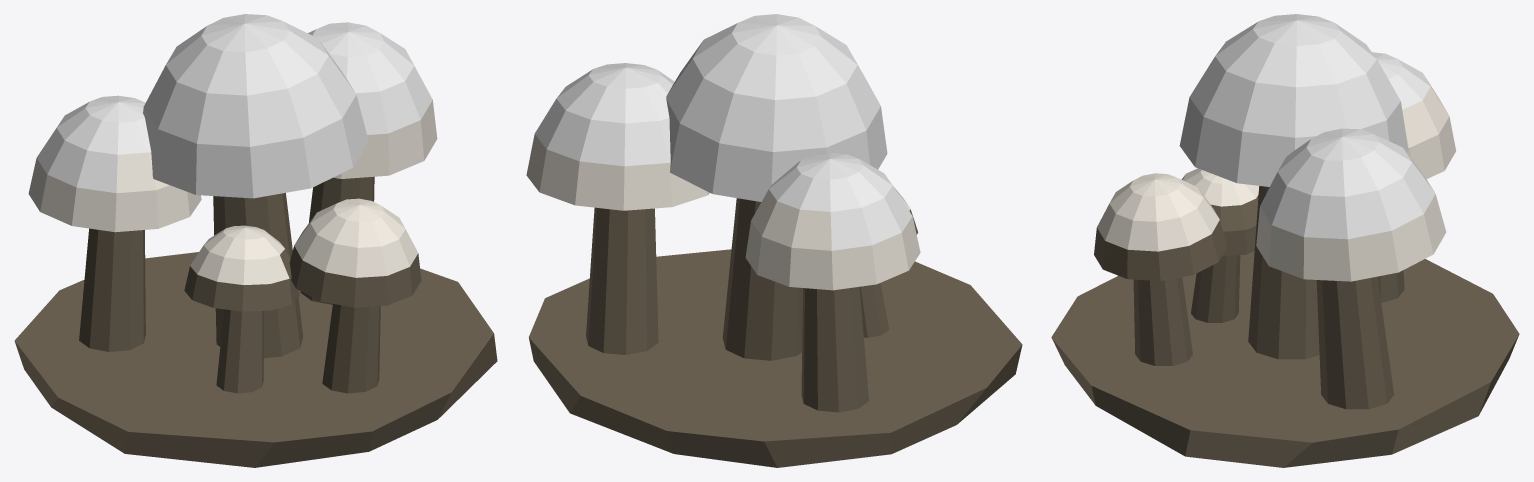
The model's file is mushroom_cluster.fbx.
The picture shows the model from 3 angles, left to right: view 1: azimuth 30°, elevation 25°; view 2: azimuth 150°, elevation 25°; view 3: azimuth 270°, elevation 25°; orthographic projection.
Visible parts, largest first — view 1: mushroom_cluster; view 2: mushroom_cluster; view 3: mushroom_cluster.
Boxes of the visible parts, bbox=[...] form: mushroom_cluster: bbox=[14, 14, 497, 467]; mushroom_cluster: bbox=[526, 14, 1022, 467]; mushroom_cluster: bbox=[1051, 14, 1519, 467].
Size of the model in its own units: 0.2511 by 0.1973 by 0.2454.
